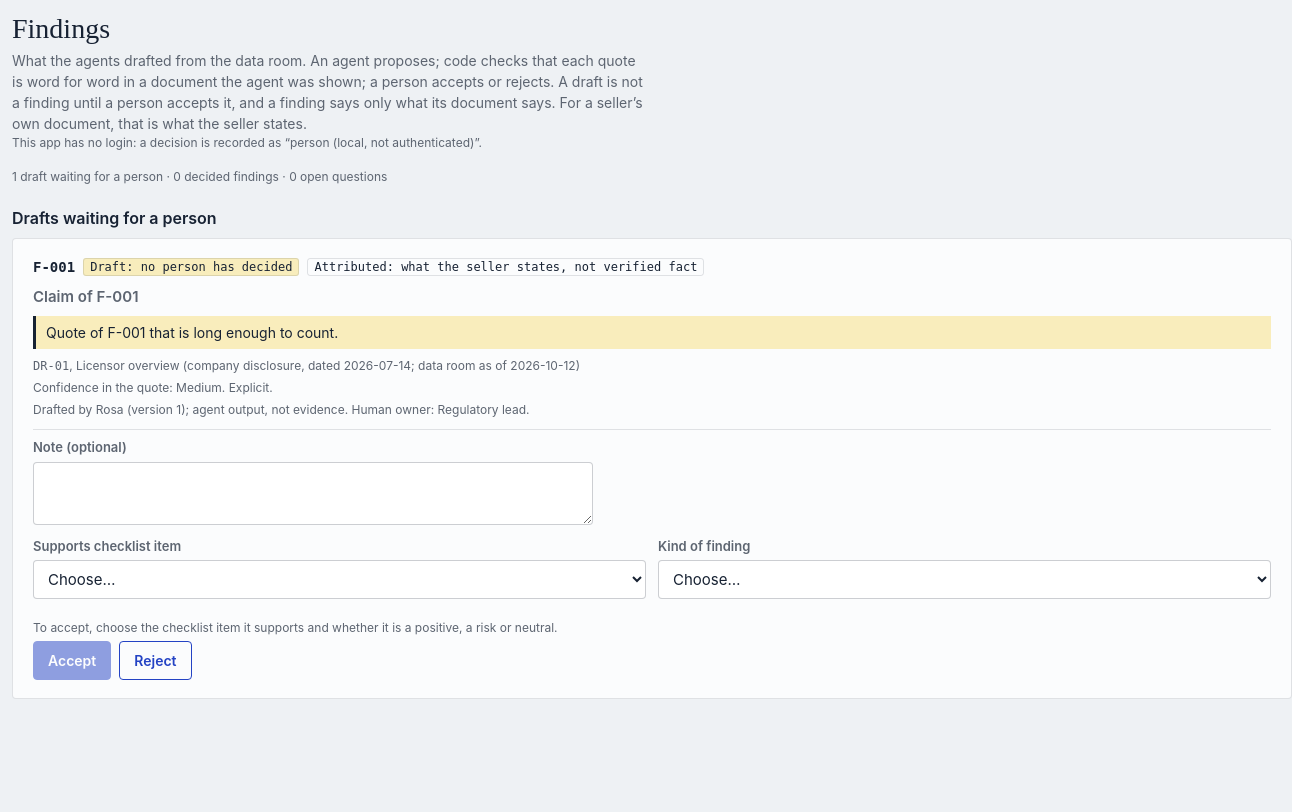
it: FindingsPanel › rejects without a note
Click the button with aria-label "Reject F-001": (155, 661) top-left (119, 641), bottom-right (192, 680)
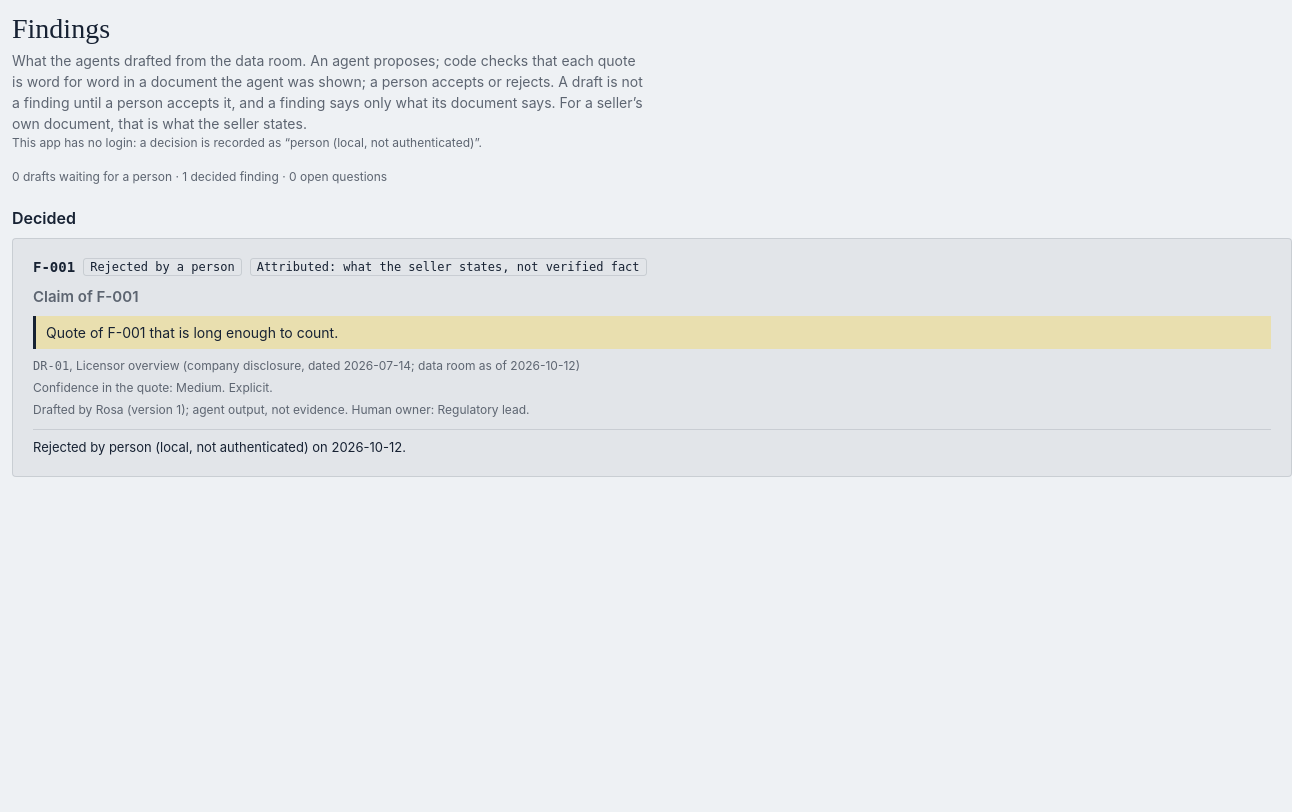
Expected: the text "Rejected by person (local, not authenticated) on 2026-10-12." is shown, top-left (33, 429), bottom-right (1271, 458)
